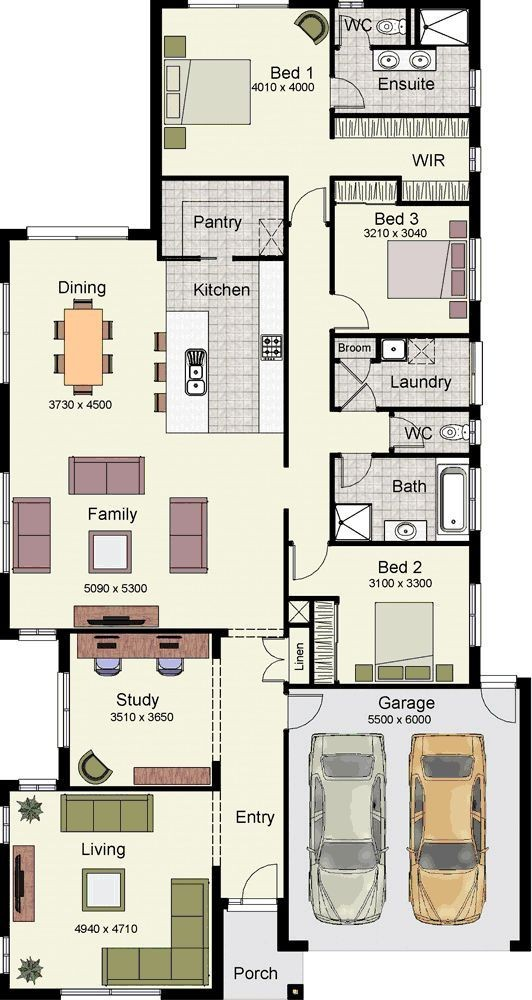door: (295, 539, 342, 586), (474, 689, 532, 726), (241, 851, 280, 906), (283, 693, 338, 731), (327, 298, 377, 339), (388, 409, 430, 456), (257, 639, 295, 689), (320, 77, 368, 107), (341, 460, 373, 492)
room: (1, 246, 289, 642), (150, 15, 482, 198), (295, 686, 520, 943), (7, 792, 231, 1000), (145, 192, 292, 437), (327, 334, 480, 566), (53, 631, 233, 795), (283, 540, 476, 686), (330, 192, 473, 348)
wall: (279, 671, 476, 706), (277, 716, 303, 950), (512, 674, 532, 950), (145, 1, 168, 234), (62, 775, 215, 801), (333, 530, 467, 556), (280, 678, 489, 693), (160, 169, 286, 192), (330, 327, 471, 346), (203, 898, 229, 1000), (286, 265, 298, 481), (371, 442, 477, 466), (377, 400, 482, 419), (324, 112, 474, 125), (326, 451, 345, 551), (327, 195, 345, 300), (288, 581, 347, 612), (79, 628, 232, 639), (471, 522, 491, 596), (465, 180, 489, 236), (282, 178, 297, 265), (235, 245, 297, 266), (329, 171, 410, 187), (282, 500, 291, 640), (373, 1, 476, 13), (459, 643, 489, 684), (323, 339, 339, 415), (292, 1, 342, 25), (403, 195, 483, 210), (468, 9, 489, 66), (470, 110, 495, 148), (1, 230, 18, 283), (160, 243, 200, 265), (126, 215, 156, 242), (59, 630, 77, 674)
window: (462, 587, 492, 656), (50, 677, 76, 753), (464, 240, 491, 306), (1, 289, 20, 381), (464, 345, 489, 410), (67, 984, 161, 1000), (18, 772, 60, 806), (200, 1, 289, 13), (21, 618, 56, 648), (1, 484, 10, 575), (473, 468, 485, 530), (3, 815, 21, 848), (1, 937, 17, 971), (468, 72, 482, 109), (468, 153, 489, 177)
